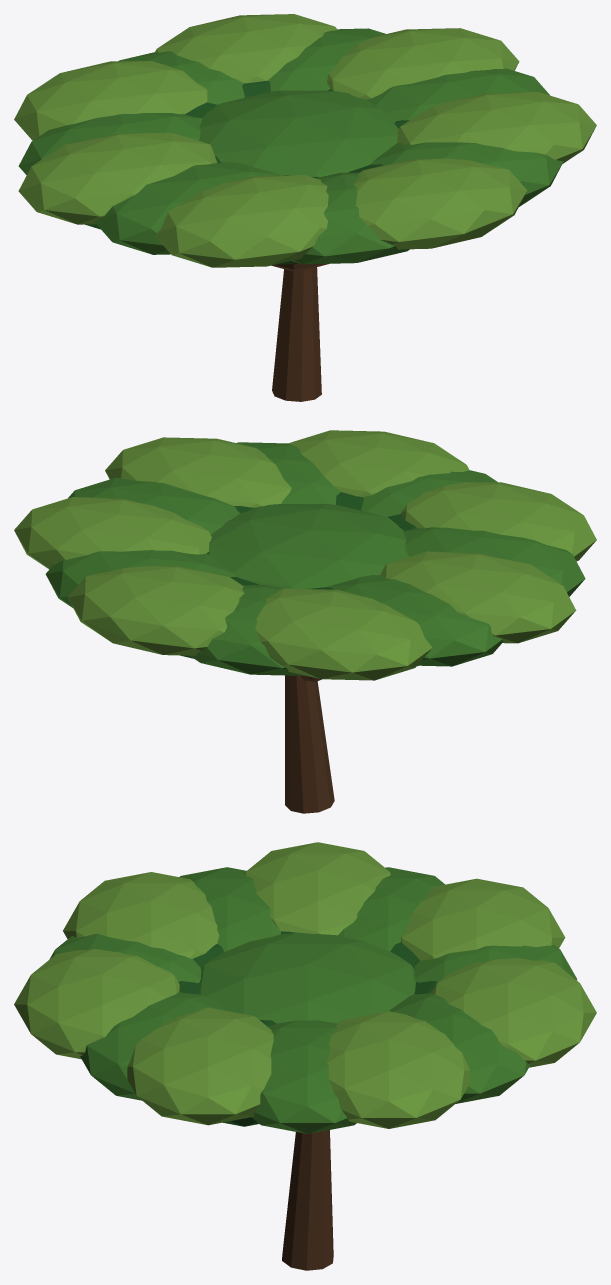
3 views of the same model, one above another, from view 1: azimuth 30°, elevation 25°; view 2: azimuth 150°, elevation 25°; view 3: azimuth 270°, elevation 25° (orthographic). The views are drawn at different scales.
Visible parts, largest first — view 1: CANOPY_UmbrellaBranch.005, CANOPY_UmbrellaBranch.006, CANOPY_UmbrellaBranch.004, CANOPY_CentralFill, CANOPY_UmbrellaBranch, CANOPY_UmbrellaBranch.001, CANOPY_UmbrellaBranch.003, CANOPY_UmbrellaBranch.002, TRUNK; view 2: CANOPY_UmbrellaBranch.003, CANOPY_UmbrellaBranch.004, CANOPY_UmbrellaBranch.002, CANOPY_CentralFill, CANOPY_UmbrellaBranch.005, CANOPY_UmbrellaBranch.001, CANOPY_UmbrellaBranch, CANOPY_UmbrellaBranch.006, TRUNK; view 3: CANOPY_UmbrellaBranch.001, CANOPY_UmbrellaBranch, CANOPY_UmbrellaBranch.002, CANOPY_CentralFill, CANOPY_UmbrellaBranch.006, CANOPY_UmbrellaBranch.004, CANOPY_UmbrellaBranch.005, CANOPY_UmbrellaBranch.003, TRUNK.
Boxes of the visible parts, x1,y1,x2,y2 form: CANOPY_UmbrellaBranch.005: [84, 155, 328, 267]; CANOPY_UmbrellaBranch.006: [276, 158, 527, 264]; CANOPY_UmbrellaBranch.004: [18, 102, 217, 224]; CANOPY_CentralFill: [198, 90, 398, 177]; CANOPY_UmbrellaBranch: [348, 92, 596, 206]; CANOPY_UmbrellaBranch.001: [327, 28, 549, 128]; CANOPY_UmbrellaBranch.003: [14, 51, 270, 140]; CANOPY_UmbrellaBranch.002: [154, 14, 385, 94]; TRUNK: [272, 267, 321, 401]; CANOPY_UmbrellaBranch.003: [180, 577, 431, 680]; CANOPY_UmbrellaBranch.004: [309, 551, 576, 666]; CANOPY_UmbrellaBranch.002: [45, 541, 244, 655]; CANOPY_CentralFill: [209, 504, 408, 588]; CANOPY_UmbrellaBranch.005: [401, 482, 596, 596]; CANOPY_UmbrellaBranch.001: [14, 478, 255, 569]; CANOPY_UmbrellaBranch: [105, 437, 363, 510]; CANOPY_UmbrellaBranch.006: [289, 430, 497, 530]; TRUNK: [285, 675, 334, 813]; CANOPY_UmbrellaBranch.001: [223, 1011, 469, 1133]; CANOPY_UmbrellaBranch: [80, 981, 273, 1125]; CANOPY_UmbrellaBranch.002: [389, 958, 596, 1103]; CANOPY_CentralFill: [199, 932, 415, 1023]; CANOPY_UmbrellaBranch.006: [14, 933, 223, 1059]; CANOPY_UmbrellaBranch.004: [245, 842, 444, 967]; CANOPY_UmbrellaBranch.005: [63, 867, 296, 958]; CANOPY_UmbrellaBranch.003: [401, 878, 577, 994]; TRUNK: [282, 1130, 333, 1270].
Bounding box in the file's own units: 8.84 × 4.69 × 8.23.
